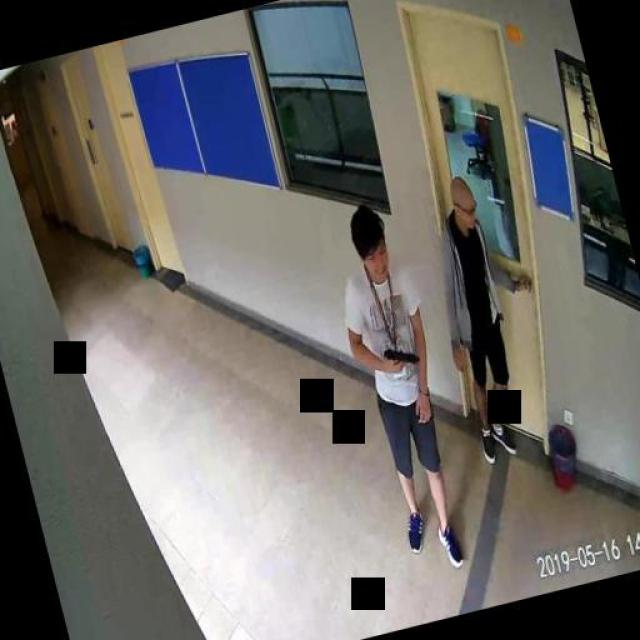gun: (381, 342, 420, 376)
